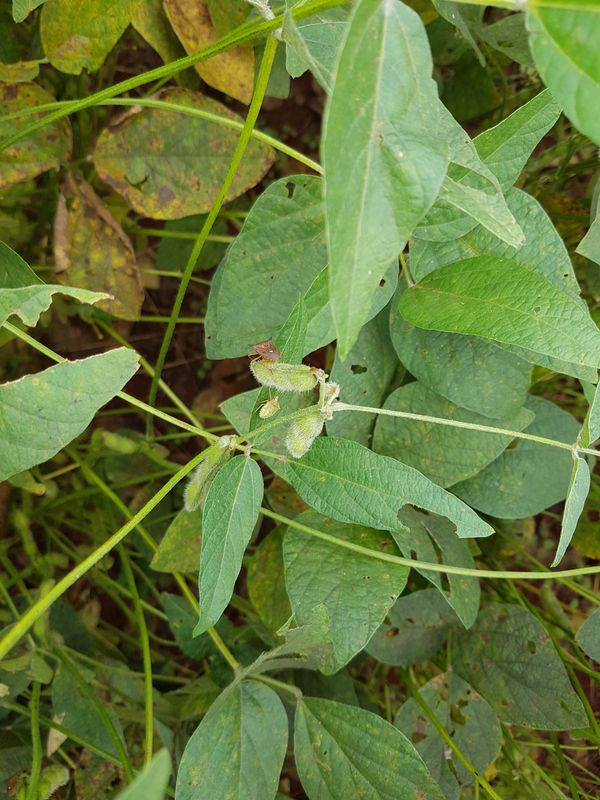Euschistus_heros_adulto: (244, 332, 288, 370)
Euschistus_heros_ninfa: (249, 387, 286, 424)
